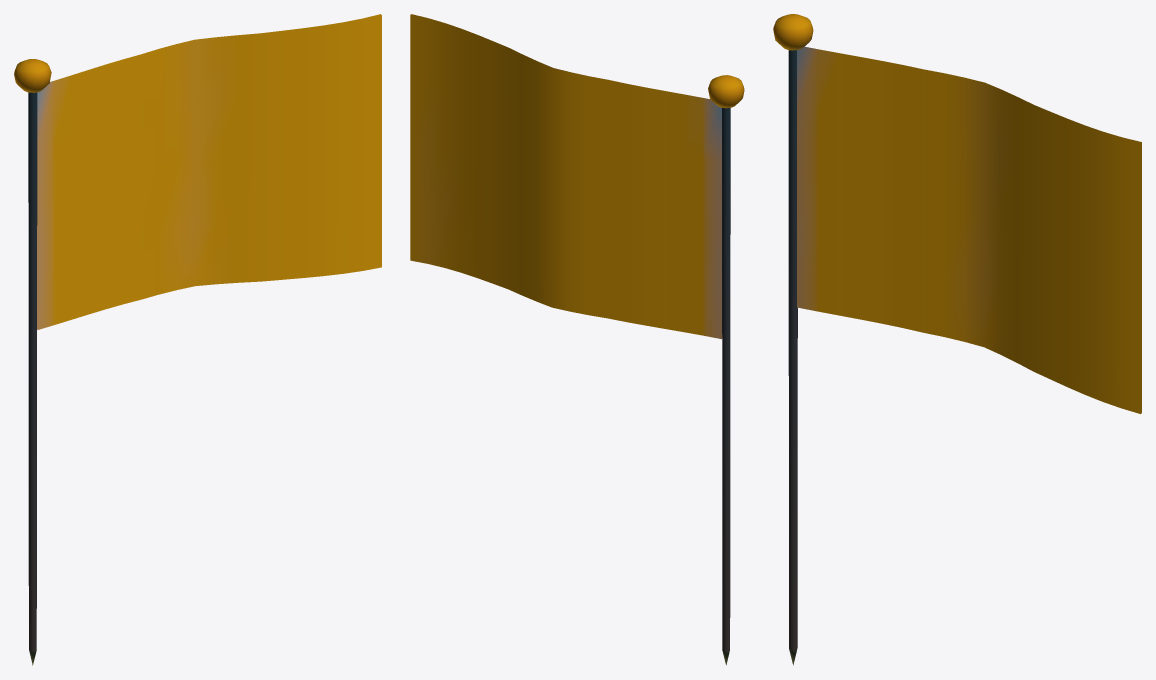
The model's file is flag.glb.
The picture shows the model from 3 angles, left to right: view 1: azimuth 30°, elevation 25°; view 2: azimuth 150°, elevation 25°; view 3: azimuth 330°, elevation 25°; orthographic projection. The views are drawn at different scales.
Parts seen in each view (by area): view 1: flag, pin; view 2: flag, pin; view 3: flag, pin.
Part boxes in pixels (x1=…): flag: x1=37, y1=14, x2=381, y2=329; pin: x1=14, y1=59, x2=51, y2=665; flag: x1=410, y1=14, x2=722, y2=339; pin: x1=708, y1=75, x2=744, y2=665; flag: x1=797, y1=46, x2=1141, y2=413; pin: x1=773, y1=14, x2=813, y2=665.
Size of the model in its own units: 0.3184 by 0.5215 by 0.0347.
